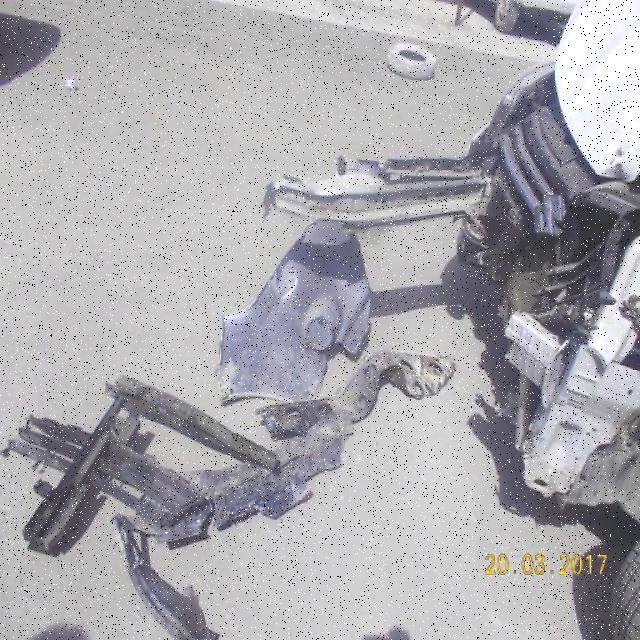car damage: (458, 32, 630, 519)
